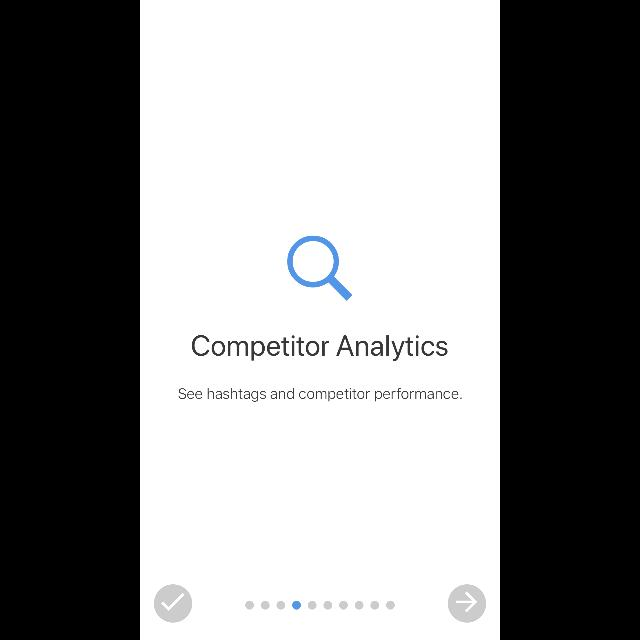icon: (448, 584, 486, 622), (154, 584, 192, 622)
image: (288, 236, 352, 300)
pageindicator: (246, 601, 394, 609)
text: (192, 335, 448, 361), (178, 388, 462, 402)
